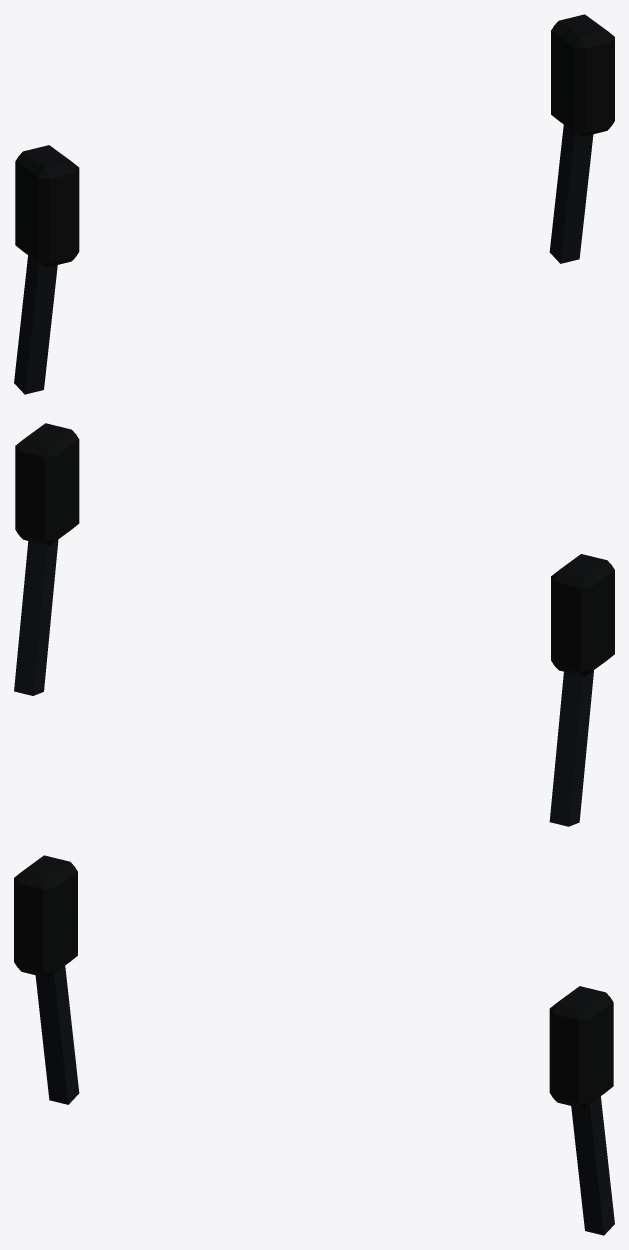
The model's file is Cockpit_DropPod__Stick.obj.
The picture shows the model from 3 angles, top to bottom: view 1: azimuth 30°, elevation 25°; view 2: azimuth 150°, elevation 25°; view 3: azimuth 330°, elevation 25°; orthographic projection.
Visible parts, largest first — view 1: Pod_control_grip, Pod_control_grip.001, Twin_control_stalk.001, Twin_control_stalk; view 2: Pod_control_grip.001, Pod_control_grip, Twin_control_stalk, Twin_control_stalk.001; view 3: Pod_control_grip.001, Pod_control_grip, Twin_control_stalk, Twin_control_stalk.001.
Part boxes in pixels (box(x1,y1,x2,y2)): Pod_control_grip: box(15, 145, 79, 267); Pod_control_grip.001: box(551, 14, 614, 137); Twin_control_stalk.001: box(549, 125, 593, 263); Twin_control_stalk: box(14, 255, 57, 394); Pod_control_grip.001: box(15, 423, 79, 545); Pod_control_grip: box(551, 554, 614, 676); Twin_control_stalk: box(549, 670, 593, 826); Twin_control_stalk.001: box(14, 540, 58, 695); Pod_control_grip.001: box(549, 986, 613, 1108); Pod_control_grip: box(14, 855, 77, 978); Twin_control_stalk: box(35, 966, 79, 1104); Twin_control_stalk.001: box(571, 1096, 614, 1235).
Size of the model in its own units: 0.905 by 0.3677 by 0.1072.
